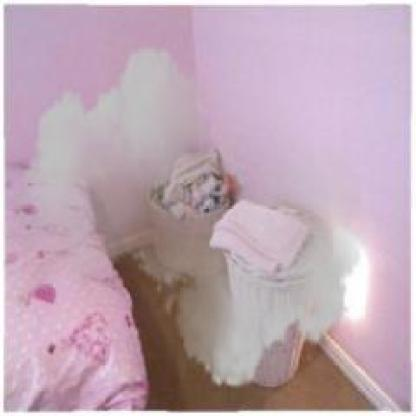Smoke: (17, 35, 366, 400)
